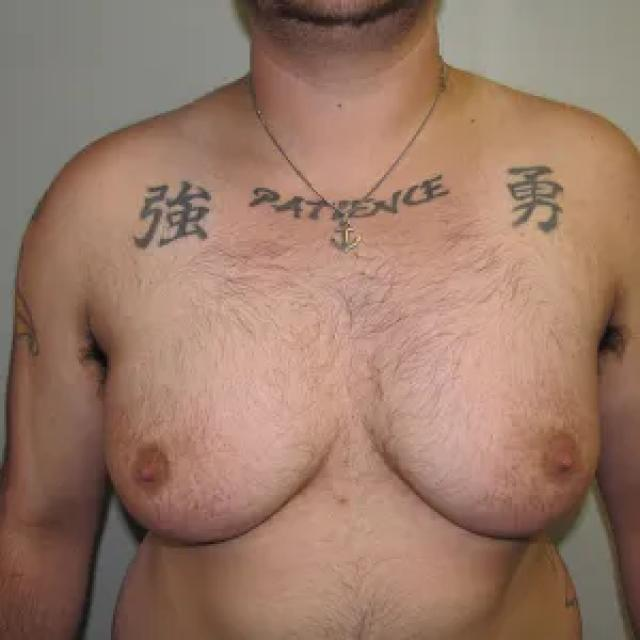Seno ileso: (94, 299, 350, 566), (356, 294, 610, 560)
